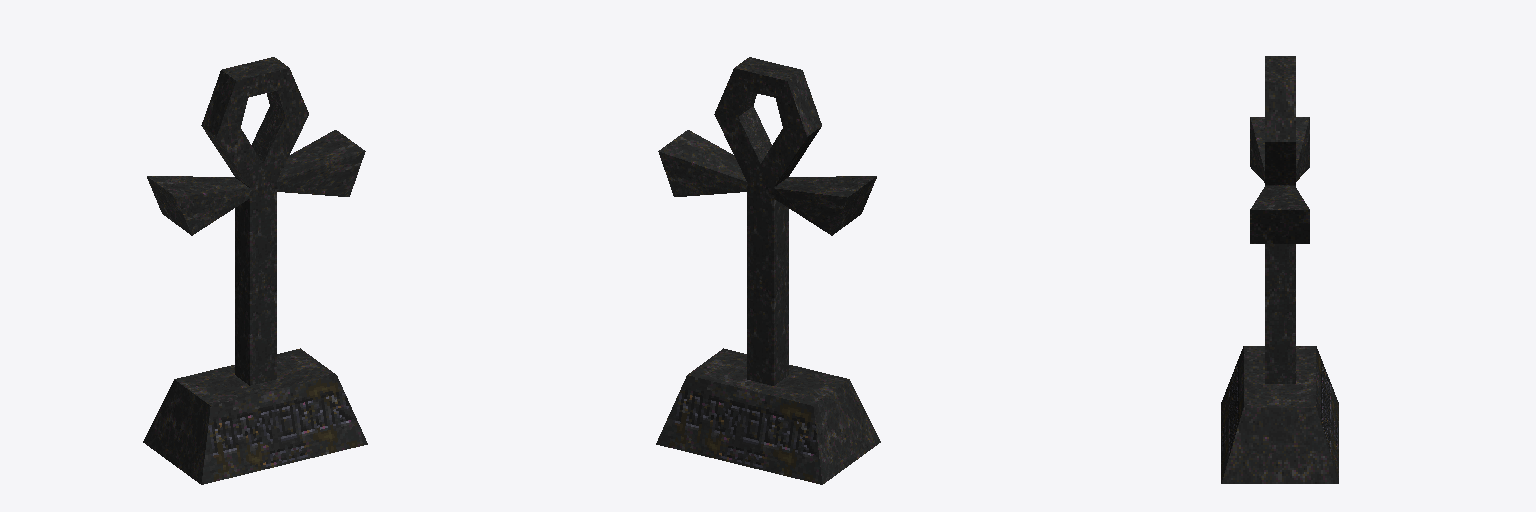
The picture shows the model from 3 angles: view 1: azimuth 30°, elevation 25°; view 2: azimuth 150°, elevation 25°; view 3: azimuth 270°, elevation 25°; orthographic projection.
Parts seen in each view (by area): view 1: model43121-node_model43121; view 2: model43121-node_model43121; view 3: model43121-node_model43121.
Boxes of the visible parts, x1,y1,x2,y2 form: model43121-node_model43121: [143, 57, 367, 484]; model43121-node_model43121: [656, 57, 880, 484]; model43121-node_model43121: [1221, 56, 1338, 483].
Size of the model in its own units: 1.2 by 2.27 by 0.6422.
2 materials, 2 textured.